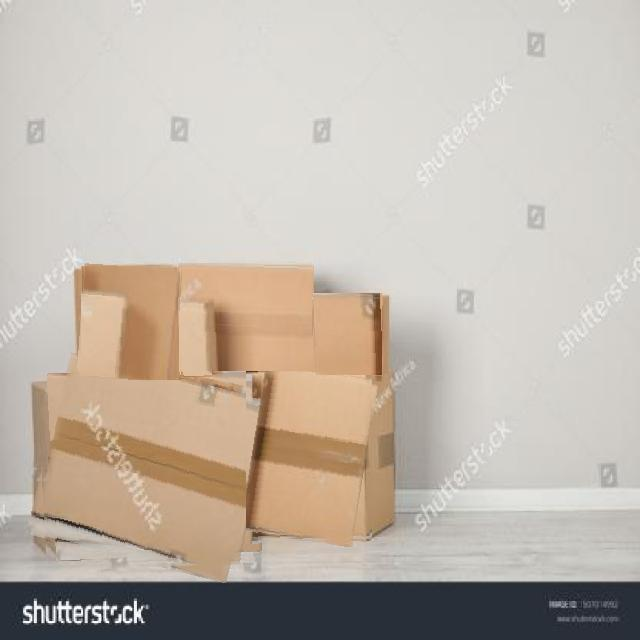BoxFace: (36, 363, 262, 572), (246, 371, 372, 544), (179, 263, 313, 371), (79, 265, 181, 380), (130, 298, 212, 377), (312, 293, 382, 375)
